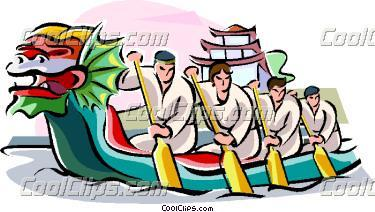boat: (6, 22, 368, 198)
person: (118, 45, 197, 153), (183, 63, 262, 162), (247, 73, 305, 160), (296, 88, 345, 158)
